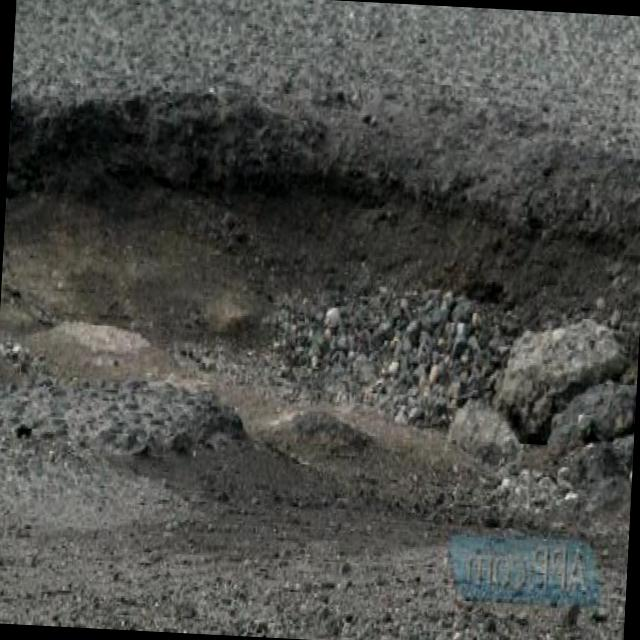Lubang: (0, 99, 640, 594)
